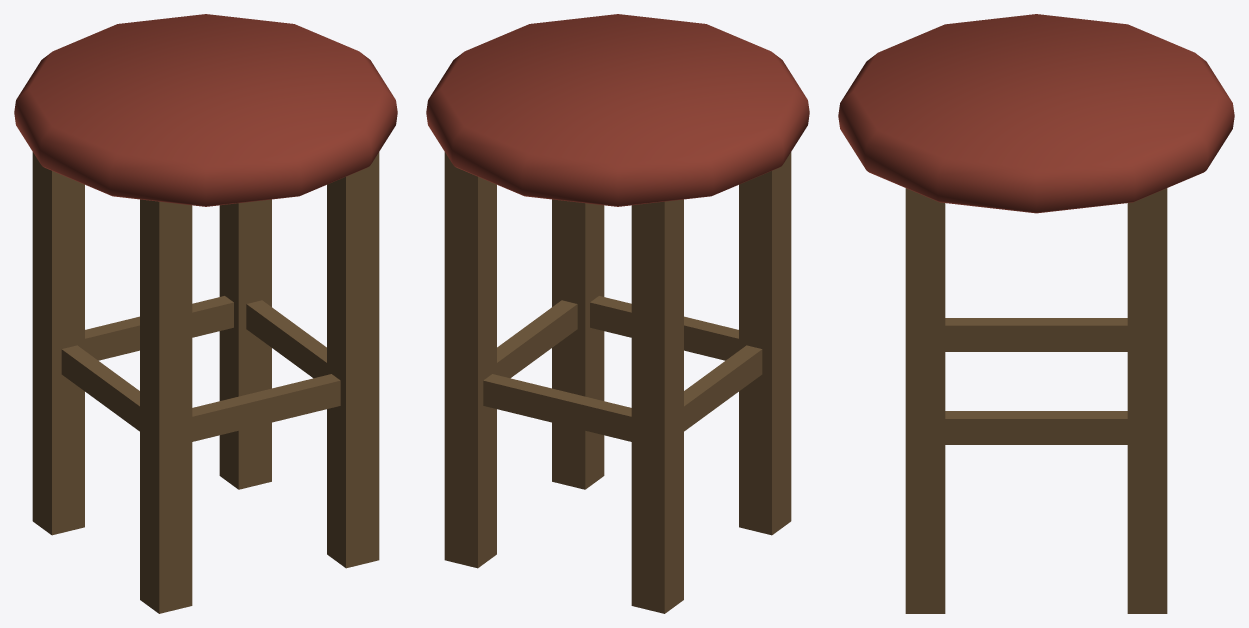
Rendered from Chair_1.fbx.
3 views of the same model, side by side, from view 1: azimuth 30°, elevation 25°; view 2: azimuth 150°, elevation 25°; view 3: azimuth 270°, elevation 25° (orthographic). The views are drawn at different scales.
Parts seen in each view (by area): view 1: Chair_1; view 2: Chair_1; view 3: Chair_1.
Boxes of the visible parts, x1,y1,x2,y2 form: Chair_1: (14, 14, 397, 613); Chair_1: (426, 14, 809, 613); Chair_1: (838, 14, 1234, 613).
Bounding box in the file's own units: 56.2 × 73.07 × 56.2.
